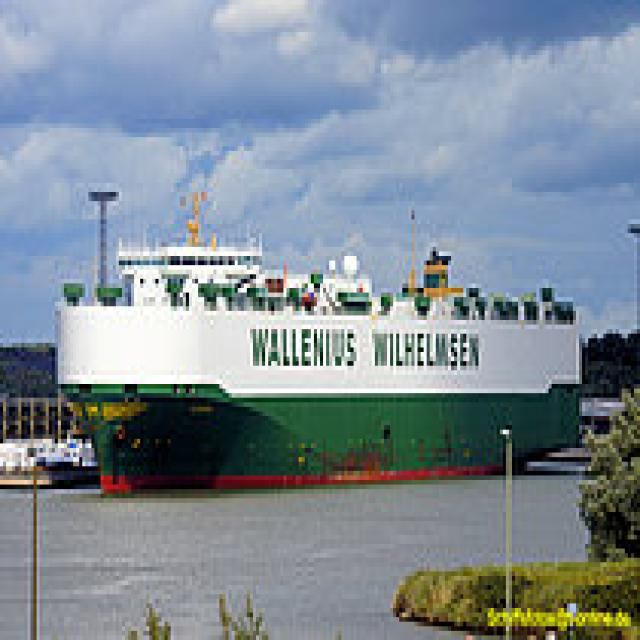Carrier: (46, 187, 579, 494)
